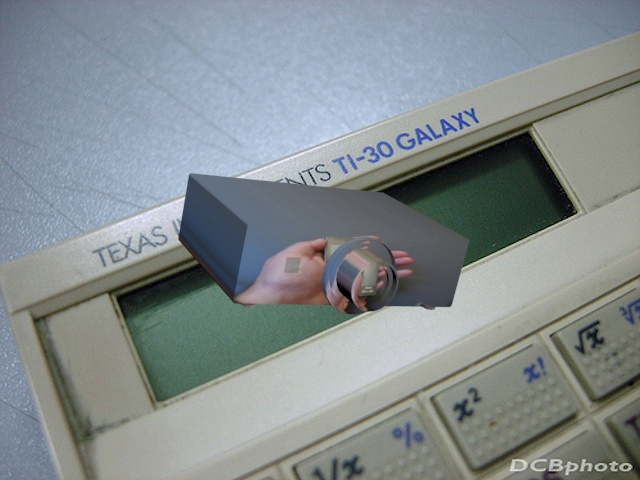projector: (176, 161, 472, 321)
